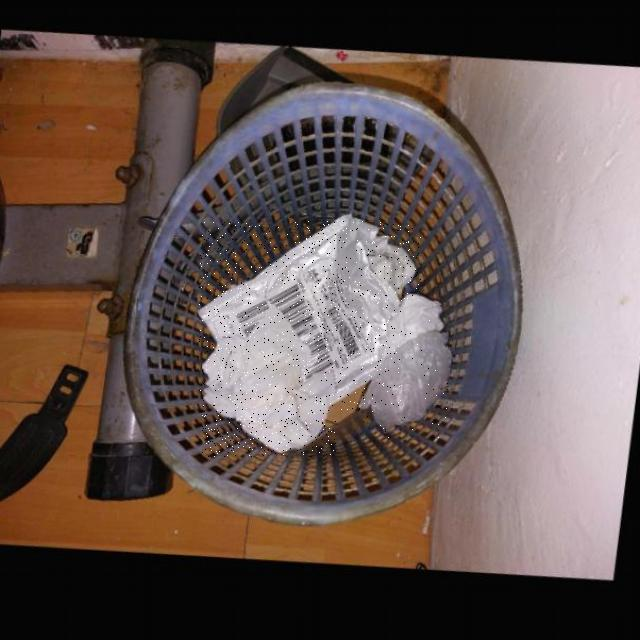paper: (203, 335, 337, 457), (355, 225, 421, 300), (380, 305, 447, 370)
plastic: (199, 221, 402, 412), (362, 338, 454, 442)
